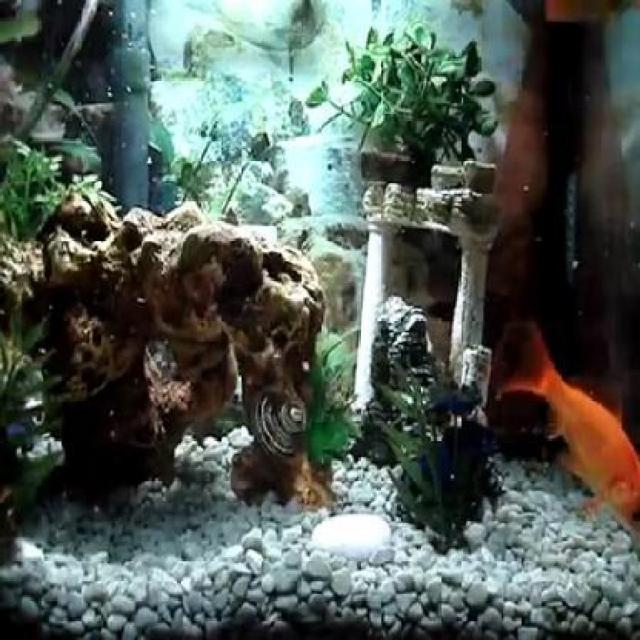GoldFish: (501, 326, 639, 542)
